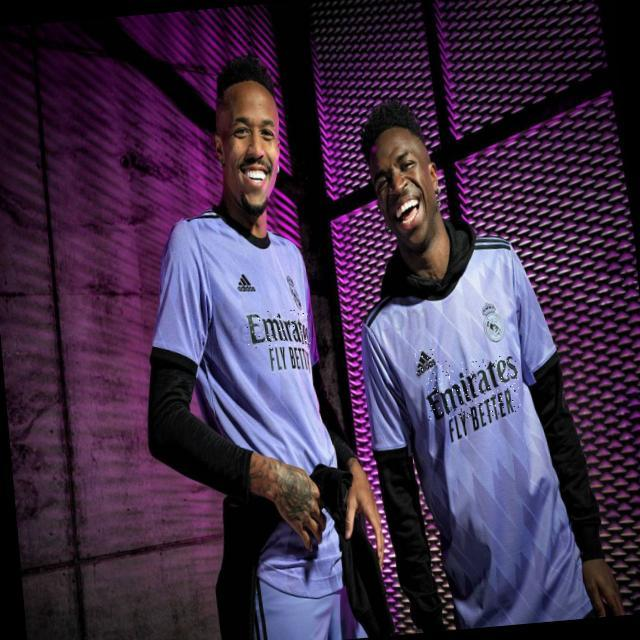Adidas: (414, 349, 436, 376), (236, 273, 256, 294)
Emirates: (423, 353, 521, 421), (245, 307, 310, 350)
